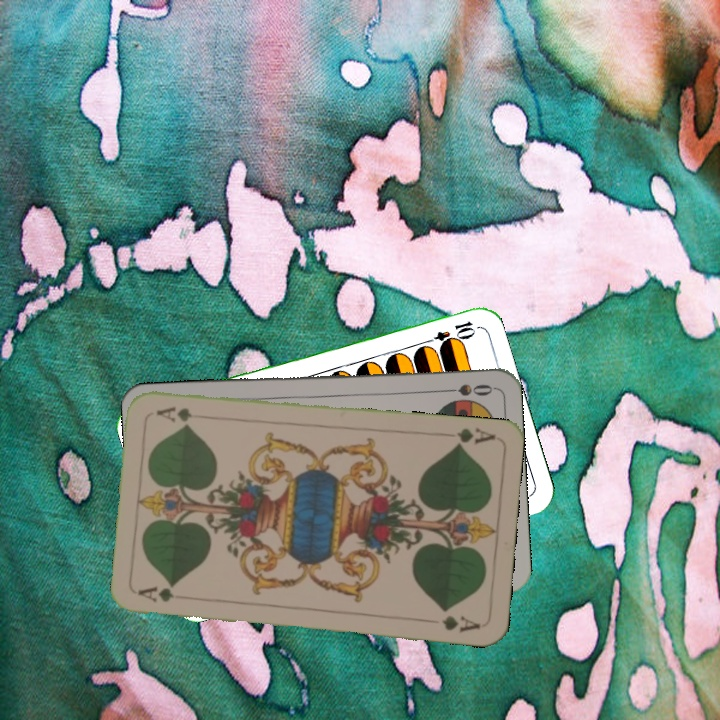E10: (419, 317, 477, 347)
GA: (451, 424, 498, 450), (134, 583, 177, 605)
SO: (436, 380, 495, 398)
